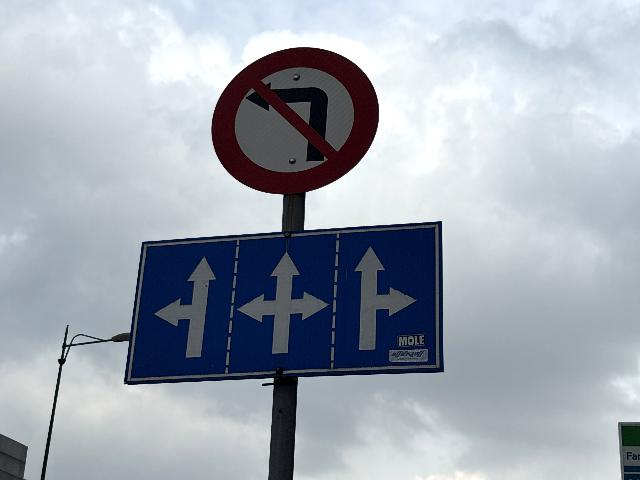cam-re-trai: (213, 46, 381, 195)
